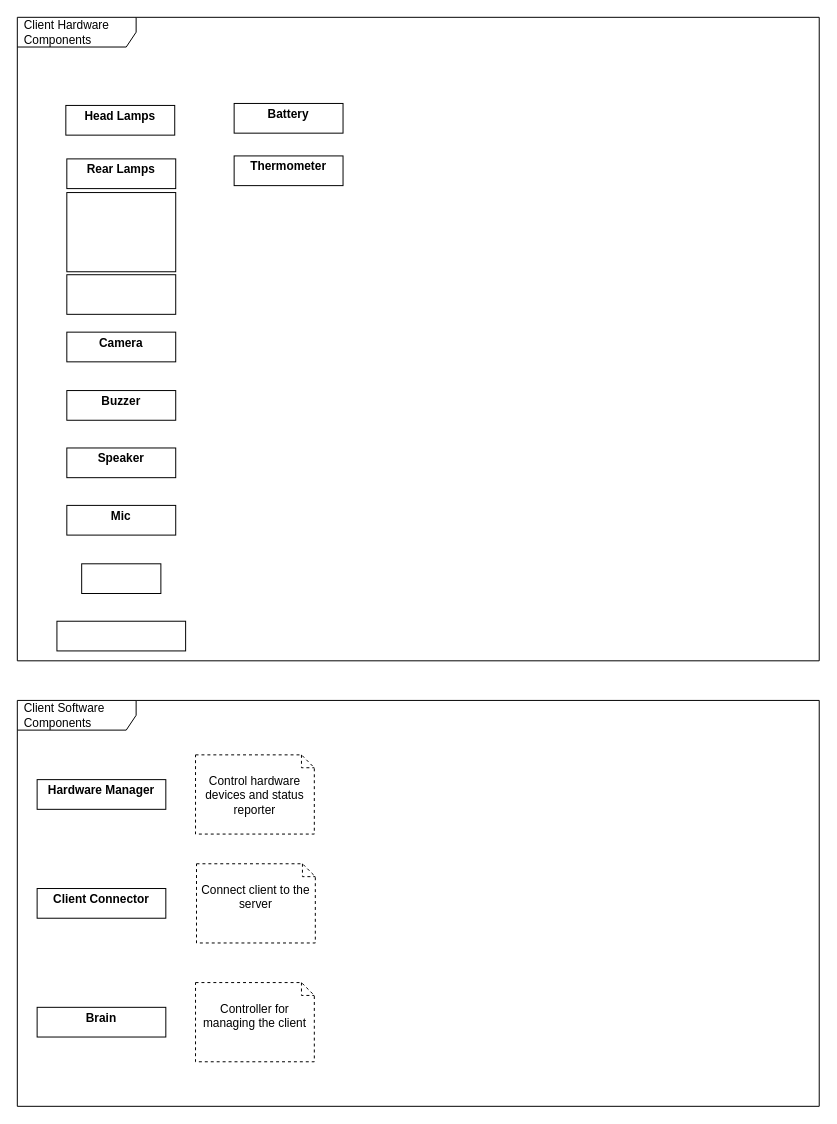
Some shapes in this 837 by 1124 pixel diagram are drawn without their labels. Each missing label, with the centre of its shape:
4-DC Motors for Wheels: [121,294]
Camera Servo Motor: [121,635]
ESP32: [121,578]
LED Indicators 1-Ready 2-Error LED ...: [121,232]
